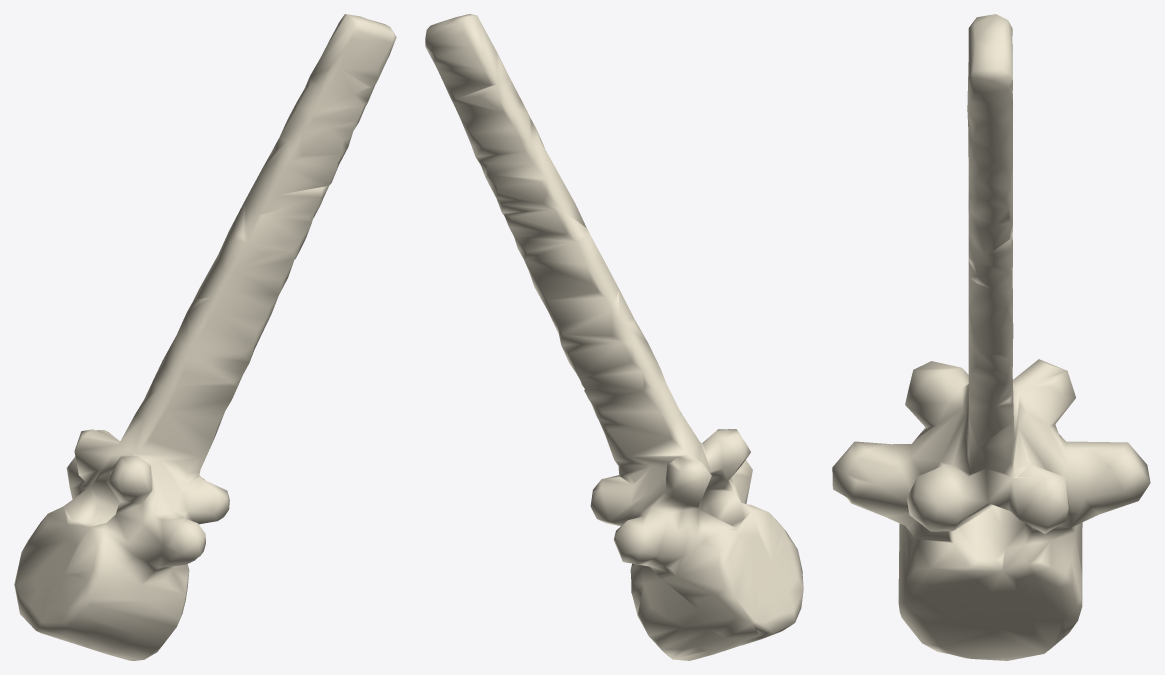
The model's file is thoracic_1.glb.
3 views of the same model, side by side, from view 1: azimuth 30°, elevation 25°; view 2: azimuth 150°, elevation 25°; view 3: azimuth 270°, elevation 25° (orthographic). The views are drawn at different scales.
Parts seen in each view (by area): view 1: geometry_0; view 2: geometry_0; view 3: geometry_0.
Boxes of the visible parts, x1,y1,x2,y2 form: geometry_0: (14,14,396,660); geometry_0: (425,14,803,660); geometry_0: (832,14,1150,660).
Size of the model in its own units: 0.3616 by 0.5565 by 0.2007.
